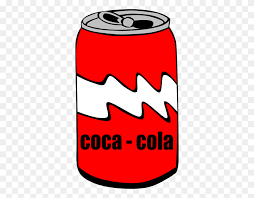coke: (83, 119, 181, 167)
